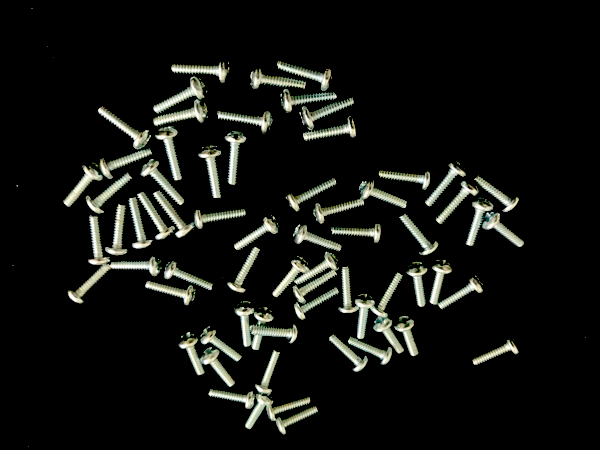shortscrew: (96, 105, 151, 150), (152, 75, 209, 114), (140, 159, 186, 206), (424, 159, 468, 208), (85, 172, 135, 214), (153, 192, 197, 239), (436, 178, 480, 225), (299, 95, 356, 131), (285, 175, 338, 213), (67, 263, 114, 305), (62, 161, 104, 208), (397, 211, 440, 256), (473, 174, 521, 213), (437, 273, 486, 311), (137, 192, 175, 241), (233, 214, 280, 252), (277, 59, 332, 91), (482, 210, 526, 249), (164, 259, 214, 293), (100, 147, 153, 179), (249, 64, 307, 93), (328, 333, 369, 374), (217, 106, 273, 136), (171, 56, 231, 84), (371, 269, 405, 318), (358, 177, 408, 210), (199, 325, 242, 363), (272, 256, 310, 299), (294, 250, 340, 285), (471, 335, 521, 367), (153, 99, 209, 127), (293, 221, 342, 253), (227, 247, 261, 293), (291, 271, 337, 305), (293, 287, 339, 321), (346, 334, 393, 367), (156, 126, 184, 181), (303, 115, 358, 142), (197, 144, 224, 198), (144, 279, 196, 306), (127, 198, 154, 250), (224, 130, 249, 186), (281, 89, 337, 114), (312, 199, 365, 225), (466, 197, 494, 246), (201, 348, 236, 387), (275, 405, 319, 436), (378, 167, 432, 192), (194, 206, 247, 231), (373, 314, 405, 355), (178, 331, 207, 376), (86, 215, 111, 266), (430, 257, 456, 306), (255, 348, 283, 393), (111, 253, 163, 277), (393, 315, 422, 358), (244, 391, 275, 431), (105, 205, 129, 256), (332, 221, 383, 245), (404, 261, 428, 308), (252, 304, 276, 351), (266, 397, 311, 422), (207, 388, 254, 411), (234, 300, 256, 348), (354, 293, 376, 340), (251, 323, 299, 344)
